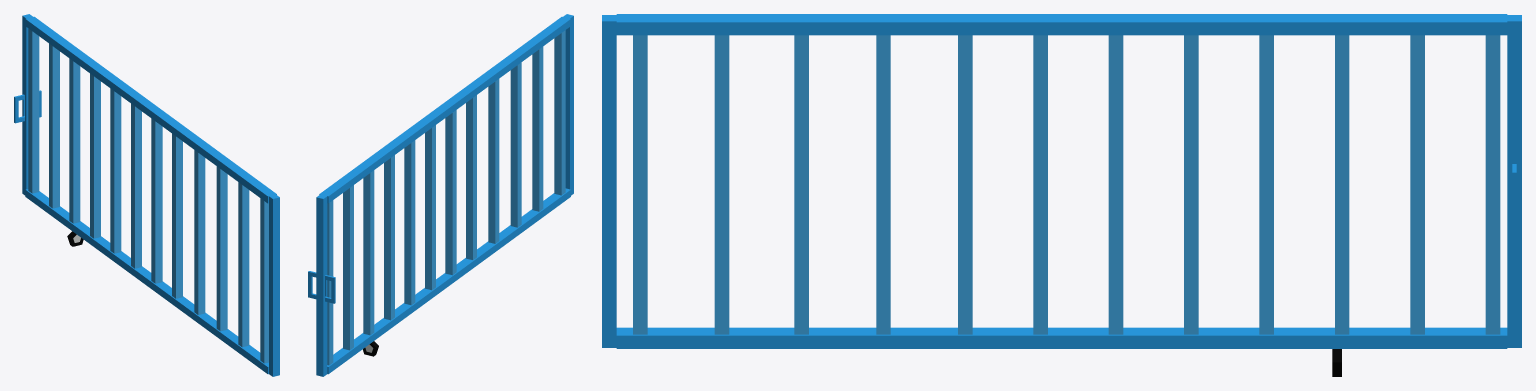
Rendered from SM_Big_Gate.fbx.
The picture shows the model from 3 angles, left to right: view 1: azimuth 30°, elevation 25°; view 2: azimuth 150°, elevation 25°; view 3: azimuth 270°, elevation 25°; orthographic projection. The views are drawn at different scales.
Visible parts, largest first — view 1: Big_Gate_Mash; view 2: Big_Gate_Mash; view 3: Big_Gate_Mash.
Part boxes in pixels (x1,y1,x2,y2): Big_Gate_Mash: (14, 14, 279, 376); Big_Gate_Mash: (308, 14, 573, 376); Big_Gate_Mash: (602, 14, 1521, 376).
Bounding box in the file's own units: 0.2314 × 1.61 × 3.78.
